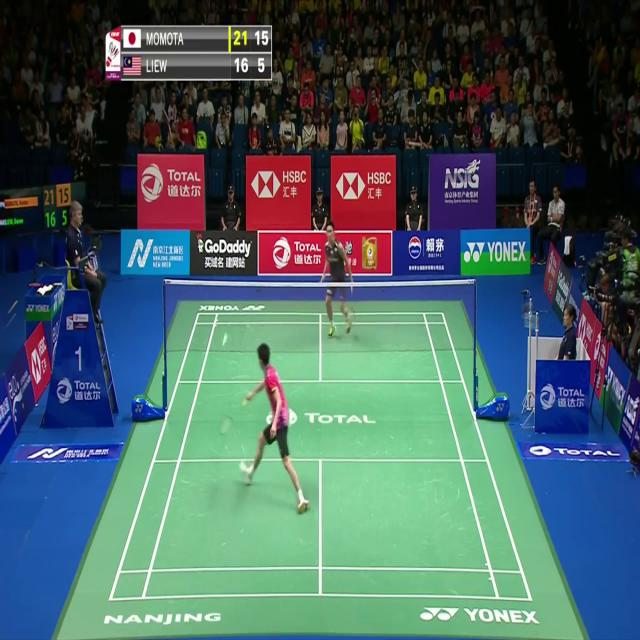Shuttlecock: (221, 335, 228, 346)
